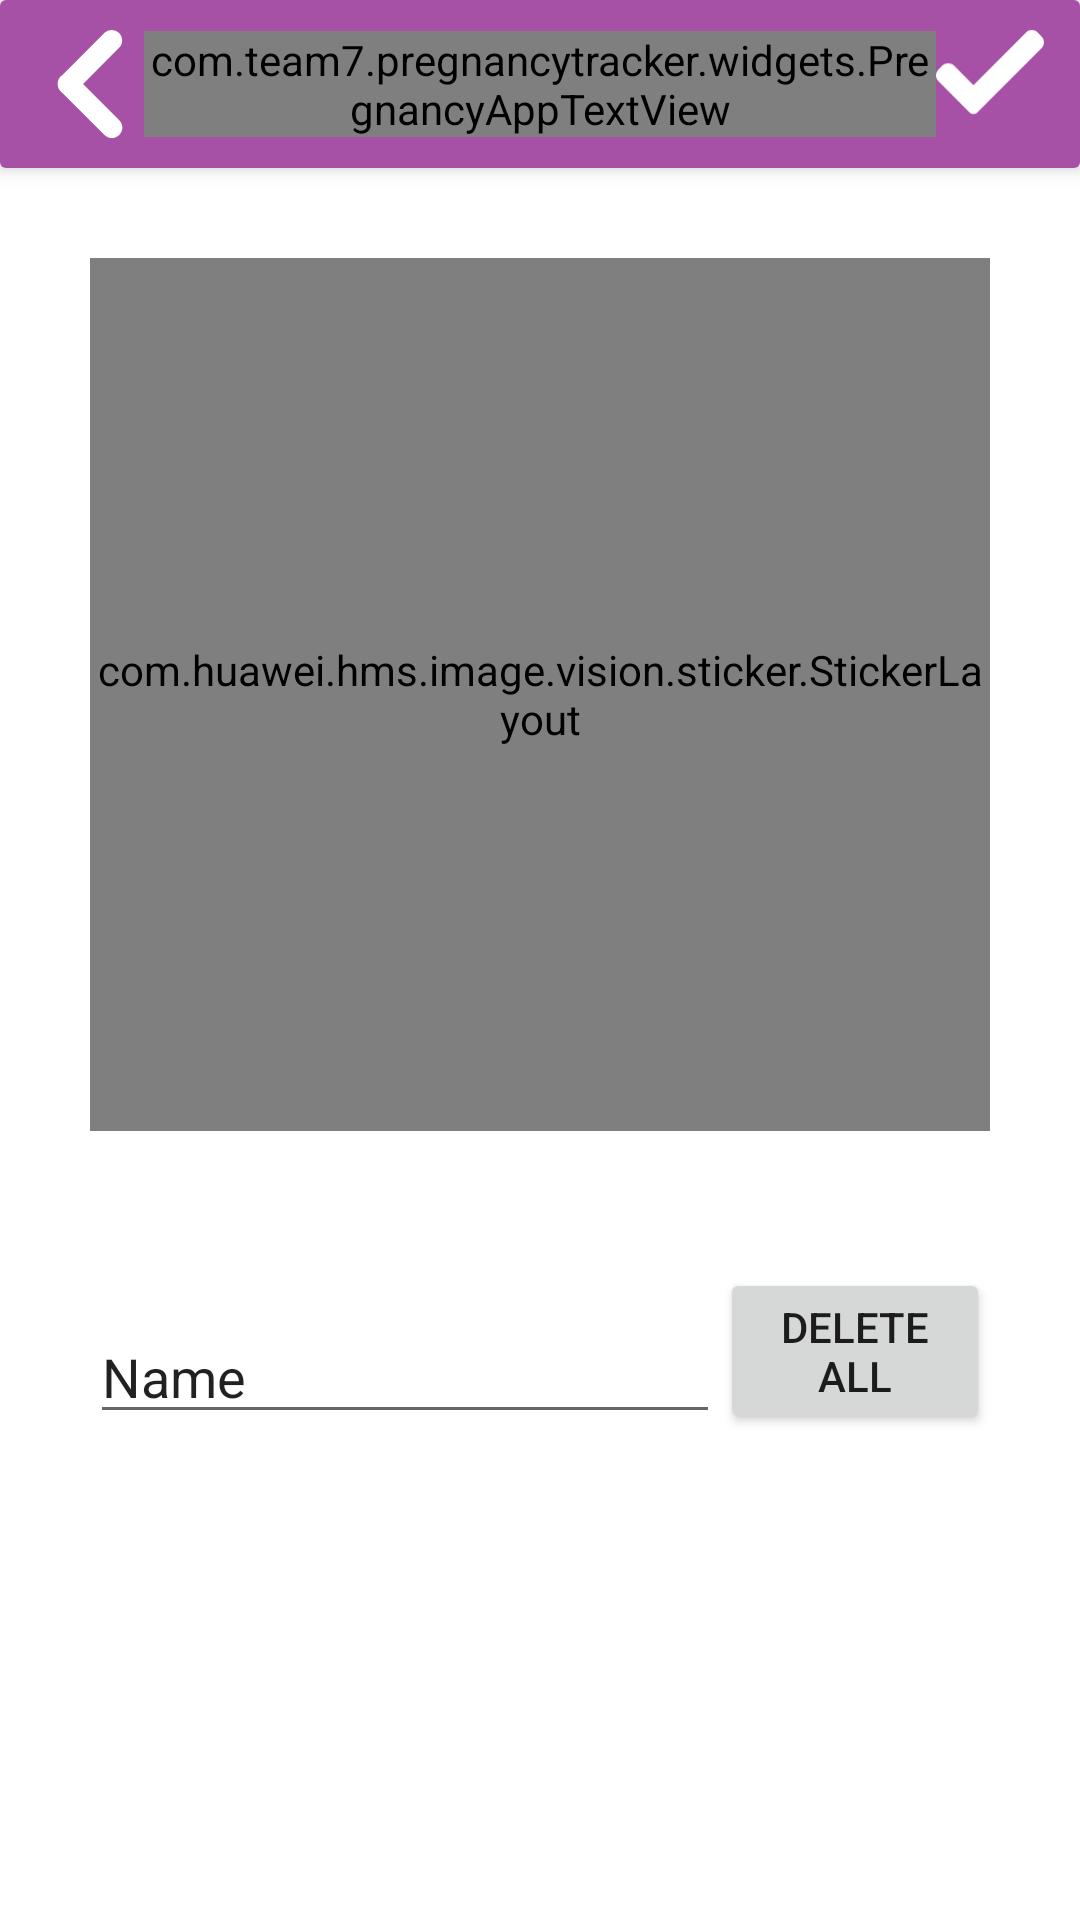

Where to tap for icons on this 1080w x 1920h app screen, as (x,y):
back: (90,84)
check: (990,72)
